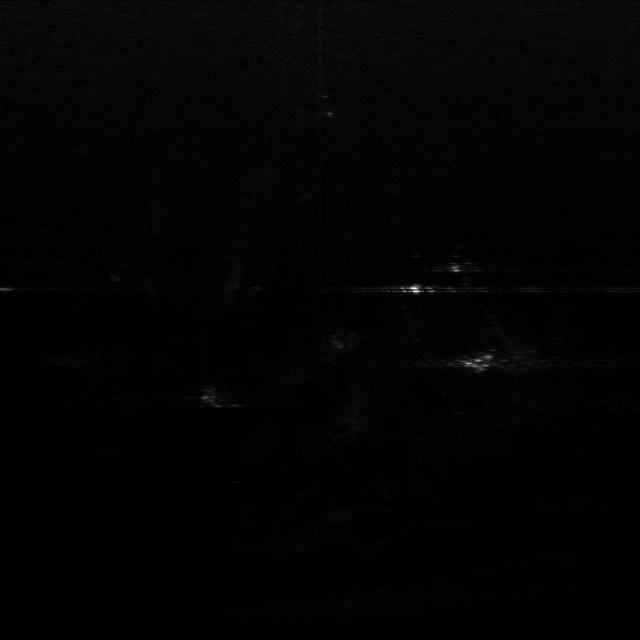rov: (457, 350, 502, 374)
